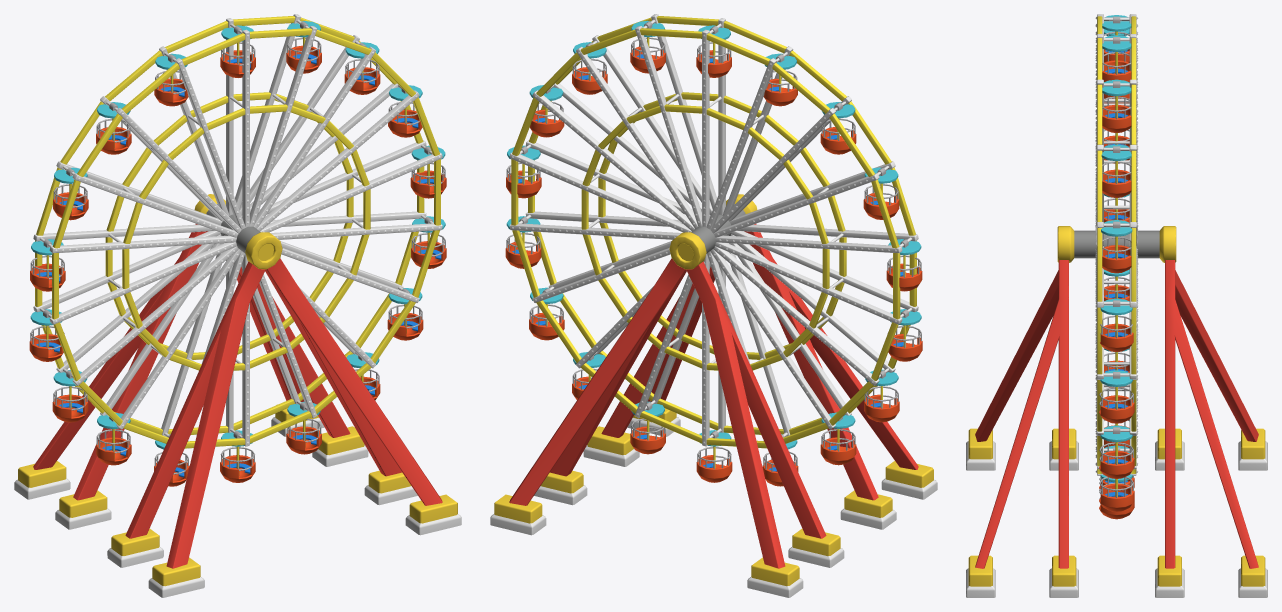
The model's file is attraction_003.gltf.
3 views of the same model, side by side, from view 1: azimuth 30°, elevation 25°; view 2: azimuth 150°, elevation 25°; view 3: azimuth 270°, elevation 25° (orthographic).
Parts seen in each view (by area): view 1: attraction_3_002, attraction_3_001, attraction_3_003 (12), attraction_3_003 (11), attraction_3_003 (13), attraction_3_003 (8), attraction_3_003 (9), attraction_3_003 (16), attraction_3_003 (15), attraction_3_003 (17), attraction_3_003 (14), attraction_3_003 (3) (+7 smaller); view 2: attraction_3_002, attraction_3_001, attraction_3_003 (12), attraction_3_003 (11), attraction_3_003 (9), attraction_3_003 (8), attraction_3_003 (13), attraction_3_003 (16), attraction_3_003 (17), attraction_3_003 (15), attraction_3_003 (14), attraction_3_003 (3) (+7 smaller); view 3: attraction_3_001, attraction_3_002, attraction_3_003 (5), attraction_3_003 (6), attraction_3_003 (4), attraction_3_003 (3), attraction_3_003 (2), attraction_3_003 (1), attraction_3_003, attraction_3_003 (7), attraction_3_003 (17), attraction_3_003 (12) (+2 smaller).
Boxes of the visible parts, bbox=[...] form: attraction_3_002: bbox=[33, 14, 442, 448]; attraction_3_001: bbox=[14, 194, 461, 597]; attraction_3_003 (12): bbox=[52, 370, 88, 422]; attraction_3_003 (11): bbox=[96, 413, 131, 465]; attraction_3_003 (13): bbox=[29, 309, 64, 361]; attraction_3_003 (8): bbox=[286, 401, 321, 454]; attraction_3_003 (9): bbox=[220, 430, 255, 482]; attraction_3_003 (16): bbox=[96, 102, 131, 154]; attraction_3_003 (15): bbox=[53, 167, 88, 220]; attraction_3_003 (17): bbox=[154, 53, 188, 106]; attraction_3_003 (14): bbox=[30, 239, 65, 291]; attraction_3_003 (3): bbox=[388, 85, 422, 137]; attraction_3_002: bbox=[509, 14, 918, 448]; attraction_3_001: bbox=[490, 194, 937, 597]; attraction_3_003 (12): bbox=[864, 369, 899, 422]; attraction_3_003 (11): bbox=[820, 412, 856, 465]; attraction_3_003 (9): bbox=[696, 430, 732, 482]; attraction_3_003 (8): bbox=[630, 401, 665, 454]; attraction_3_003 (13): bbox=[887, 309, 922, 361]; attraction_3_003 (16): bbox=[820, 102, 856, 154]; attraction_3_003 (17): bbox=[763, 53, 797, 106]; attraction_3_003 (15): bbox=[863, 167, 899, 219]; attraction_3_003 (14): bbox=[886, 239, 922, 291]; attraction_3_003 (3): bbox=[529, 85, 564, 137]; attraction_3_001: bbox=[966, 226, 1267, 597]; attraction_3_002: bbox=[1095, 14, 1138, 475]; attraction_3_003 (5): bbox=[1099, 370, 1134, 423]; attraction_3_003 (6): bbox=[1099, 425, 1134, 478]; attraction_3_003 (4): bbox=[1100, 298, 1133, 351]; attraction_3_003 (3): bbox=[1101, 220, 1132, 273]; attraction_3_003 (2): bbox=[1101, 144, 1131, 197]; attraction_3_003 (1): bbox=[1102, 79, 1131, 132]; attraction_3_003: bbox=[1102, 35, 1131, 82]; attraction_3_003 (7): bbox=[1099, 476, 1134, 511]; attraction_3_003 (17): bbox=[1102, 15, 1131, 62]; attraction_3_003 (12): bbox=[1104, 269, 1129, 301].
Size of the model in its own units: 29.09 by 32.51 by 18.19.
2 materials, 1 textured.
